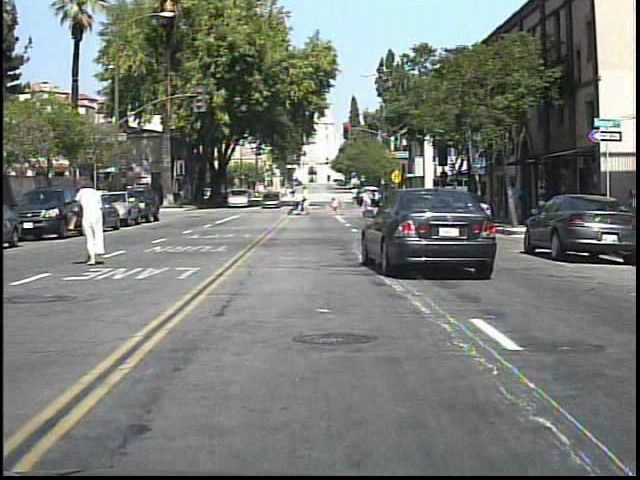person: (71, 176, 115, 269), (298, 183, 314, 217), (517, 182, 520, 212)
